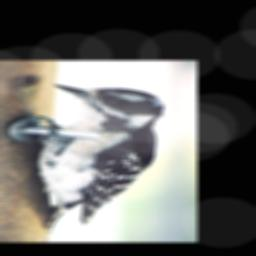Woodpecker: (29, 84, 165, 234)
